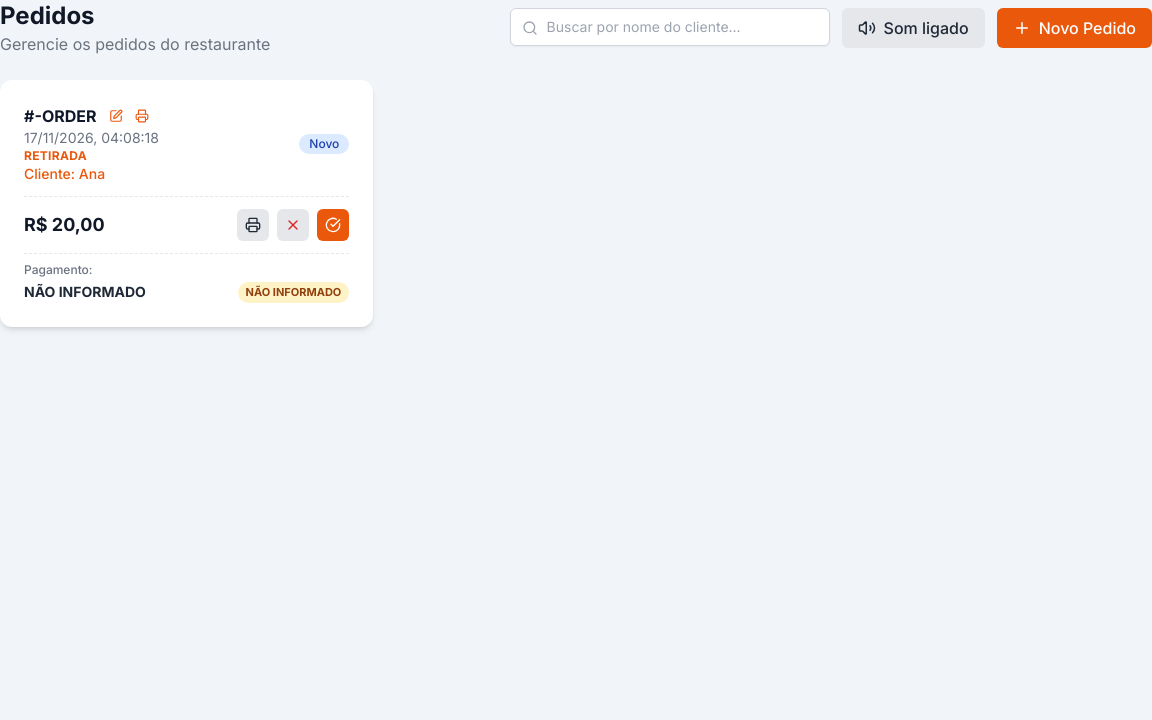
PDV cancel of an order that needs a stock review › keeps the plain success message for orders under the stock ledger
Click the button titled "Cancelar Pedido": (293, 225) left=277, top=209, right=309, bottom=241
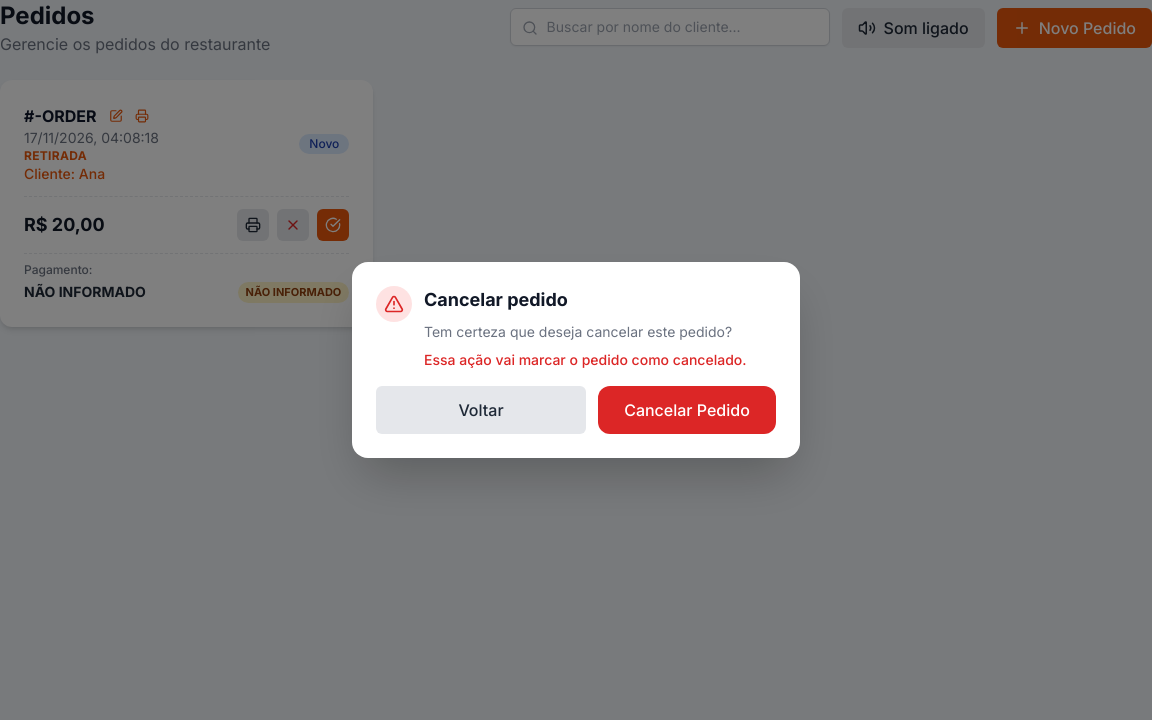
Click the button "Cancelar Pedido": (687, 410) left=598, top=386, right=776, bottom=434
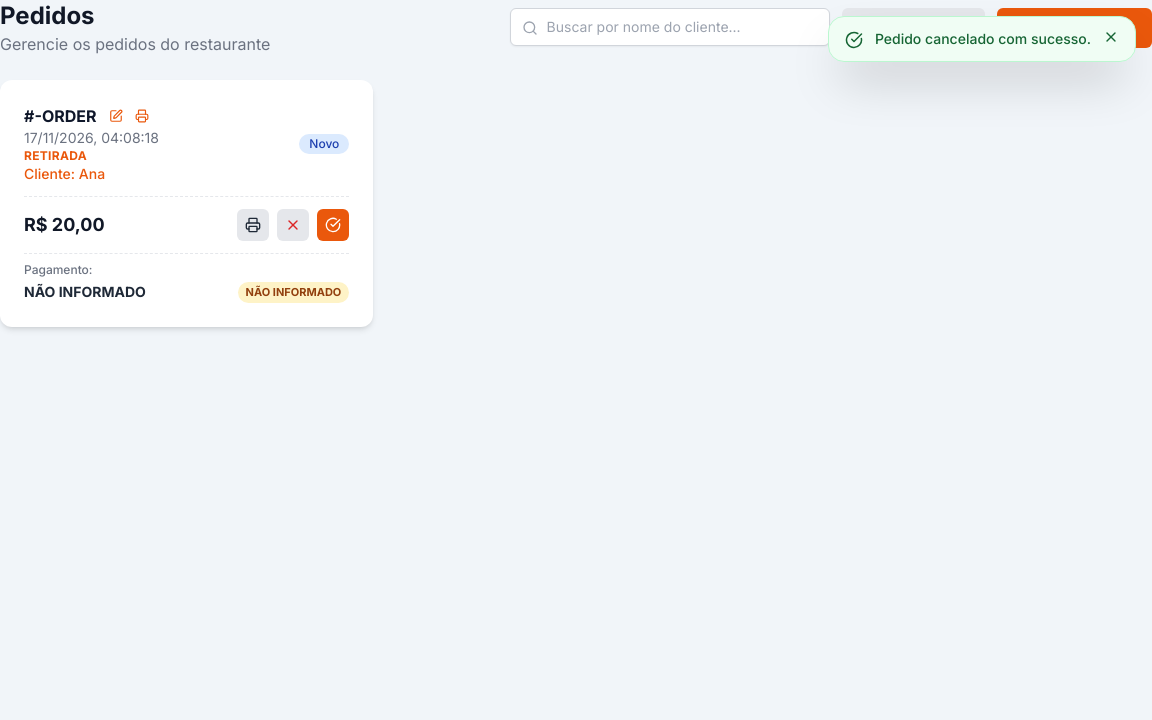
Now the text "Pedido cancelado com sucesso." is shown, box left=875, top=29, right=1091, bottom=49
